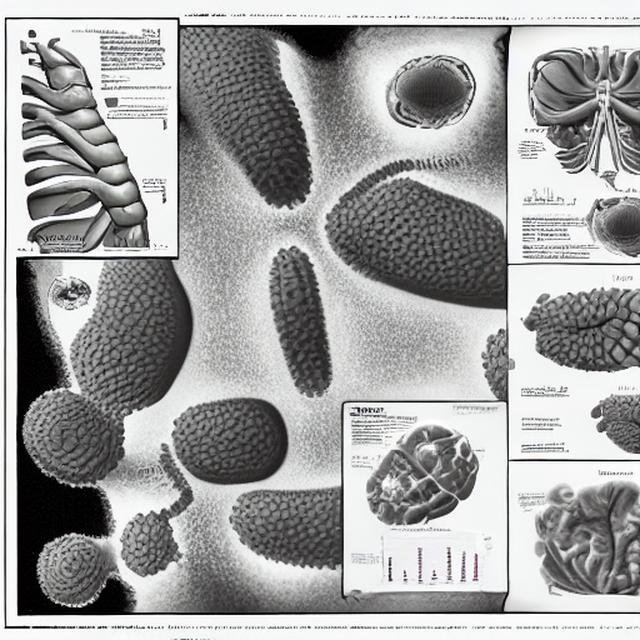Graph: (366, 527, 473, 590)
